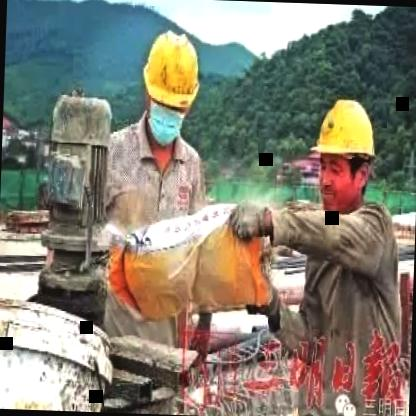helmet: (298, 85, 386, 224), (134, 18, 208, 144)
